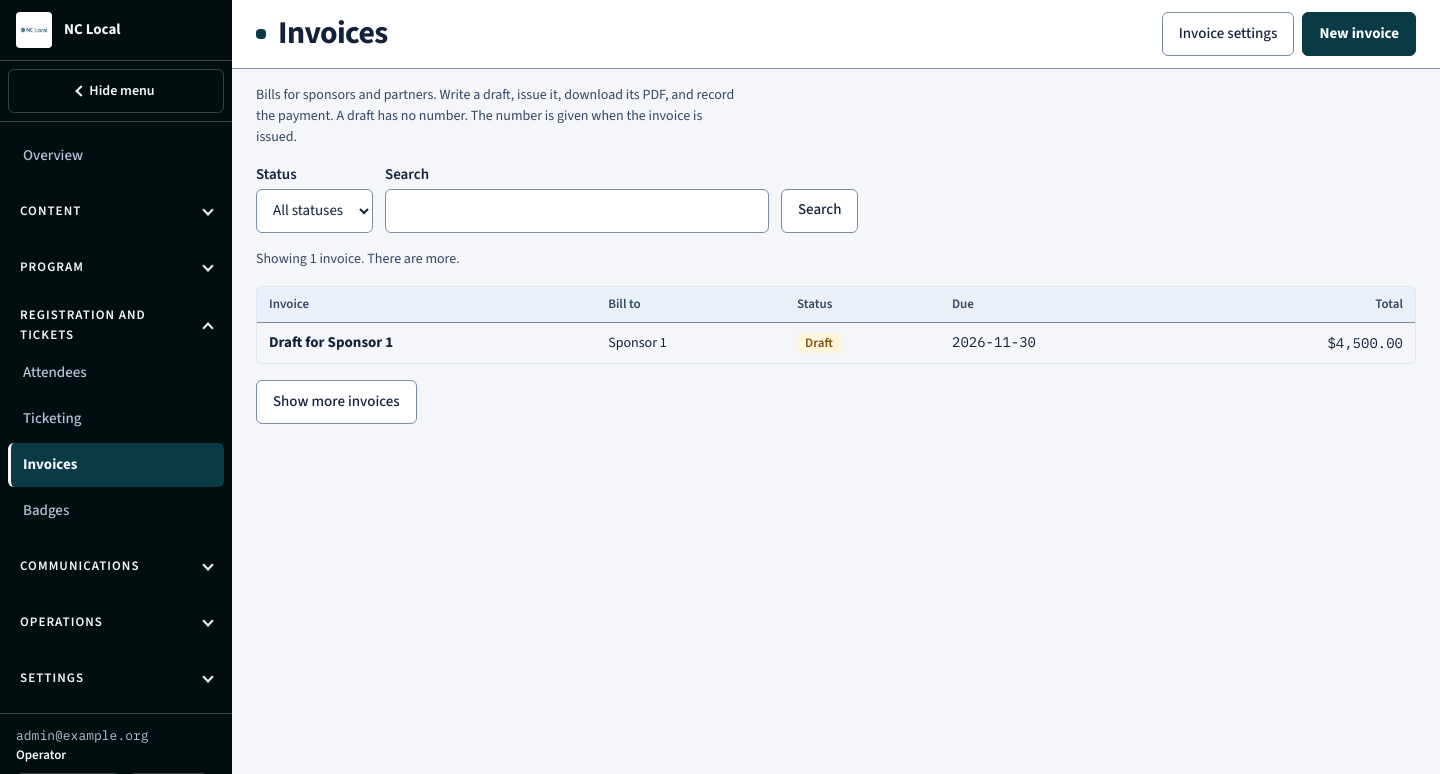
it: the invoice list pages › drops a Show more answer that arrives after the filter changed
The width and height of the screenshot is (1440, 774).
Expected: the link "Draft for Sponsor 1" is shown, [269,331,393,355]
Click the button "Show more invoices": coordinates (336, 402) [256,380,417,424]
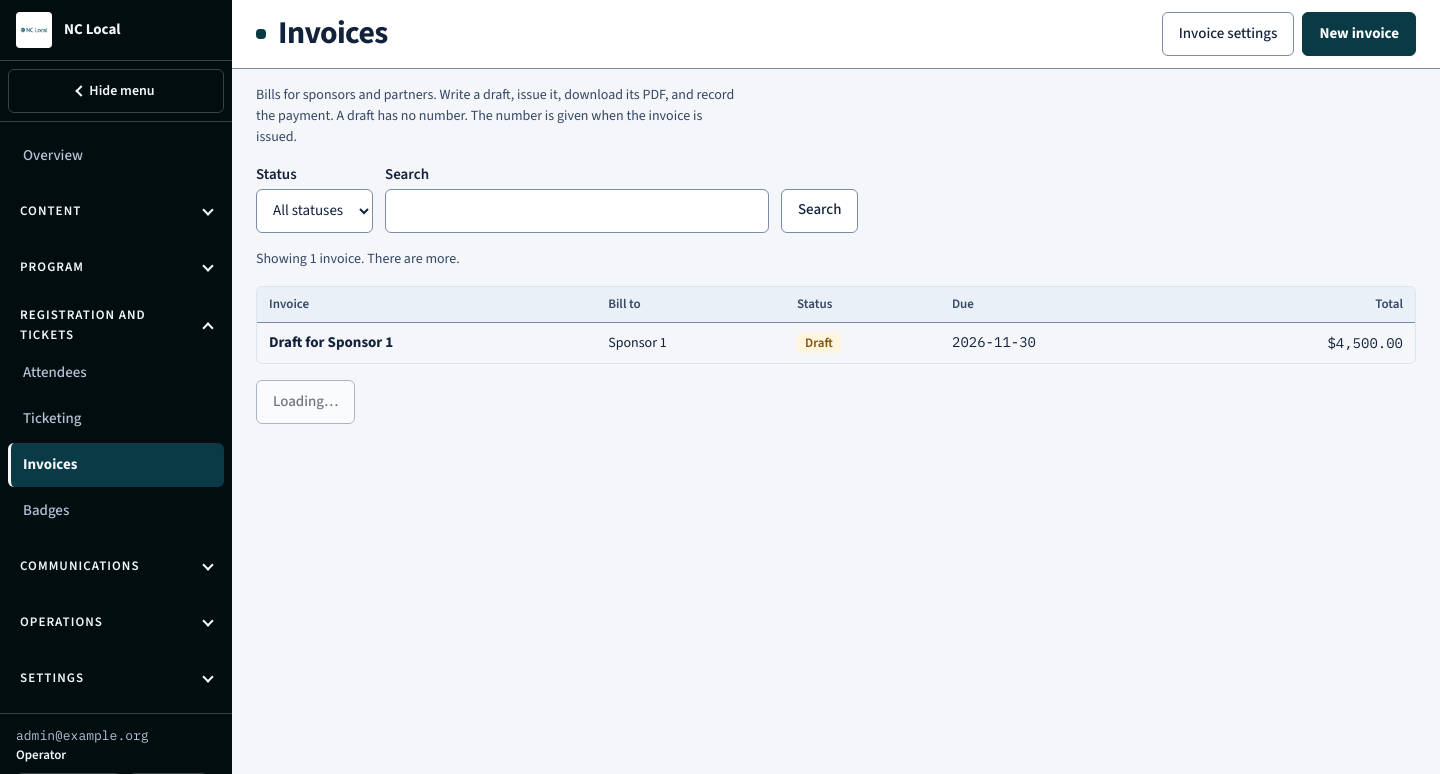
Select "Paid" in the dropdown labelled "Status": coordinates (314, 210) [256,188,373,232]
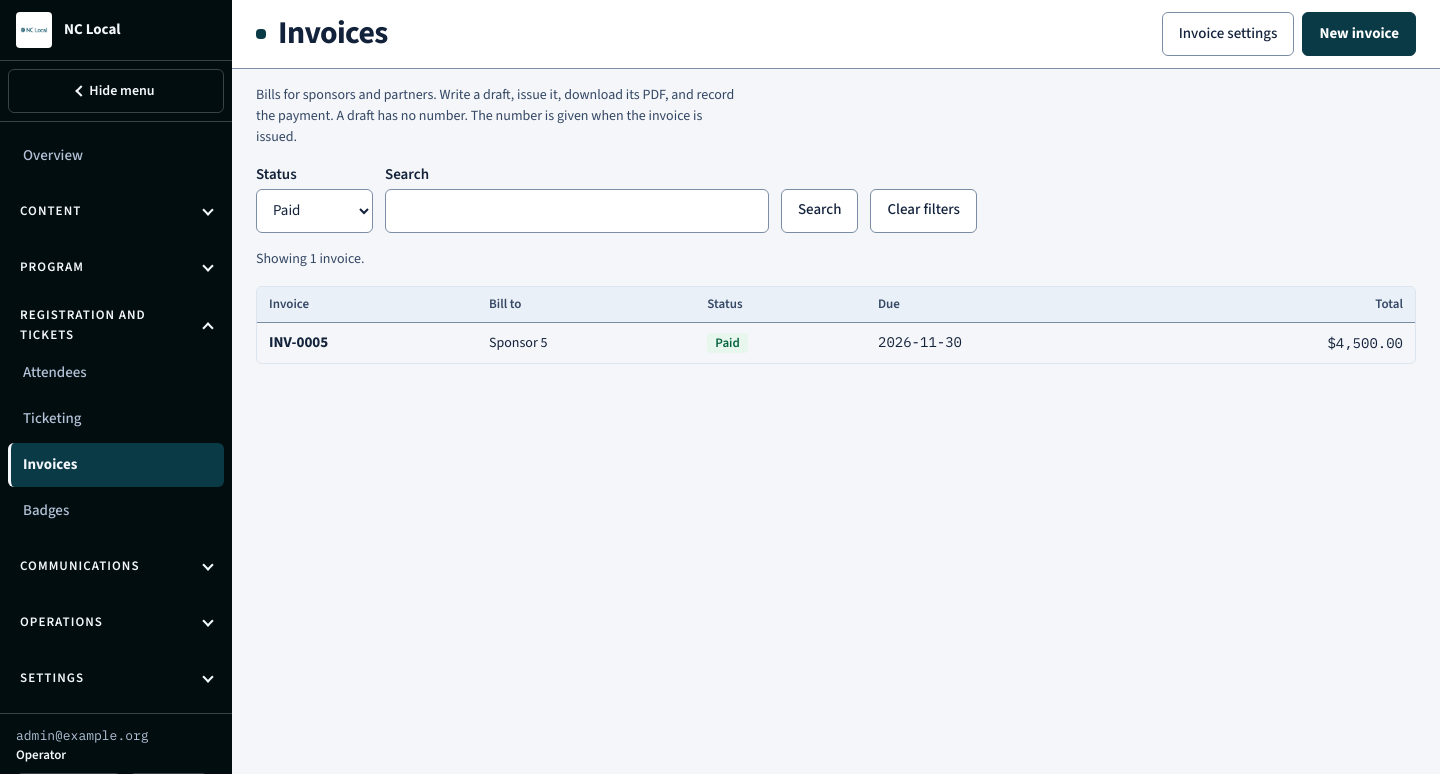
Expected: the button "Show more invoices" is not shown
Result: the link "INV-0005" is shown at [269,331,328,355]
Result: the link "Draft for Sponsor 1" is gone
